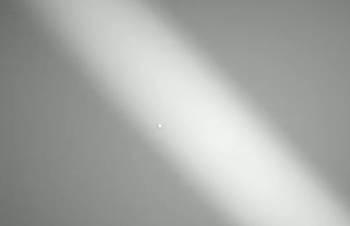Target: (159, 124, 161, 126)
